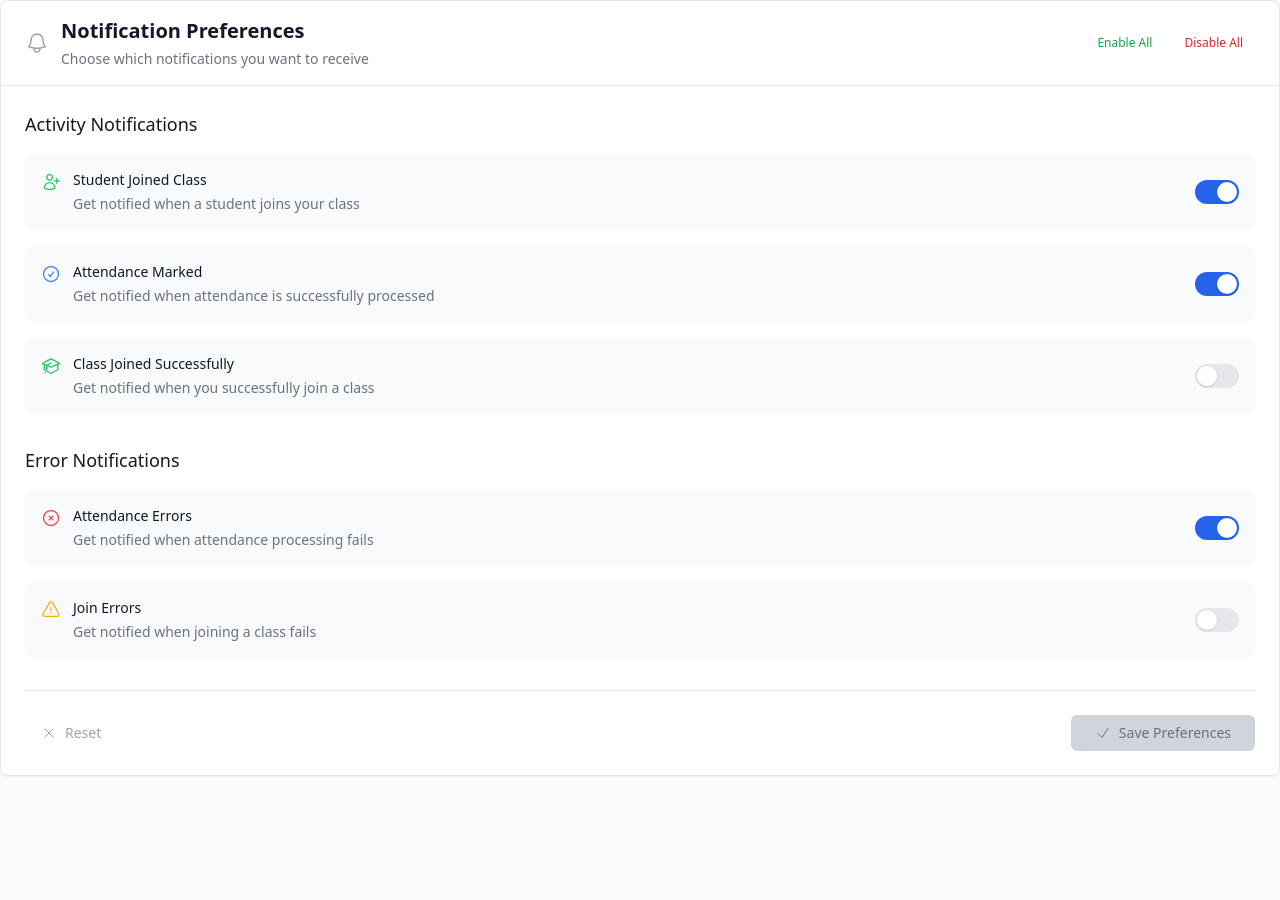
Test: NotificationPreferences › Error Handling › clears error when making changes after error
Make a change and save (will fail)
Step 1. Click the button with test id "toggle-class_joined" → (1217, 376), box [1195,364,1239,388]
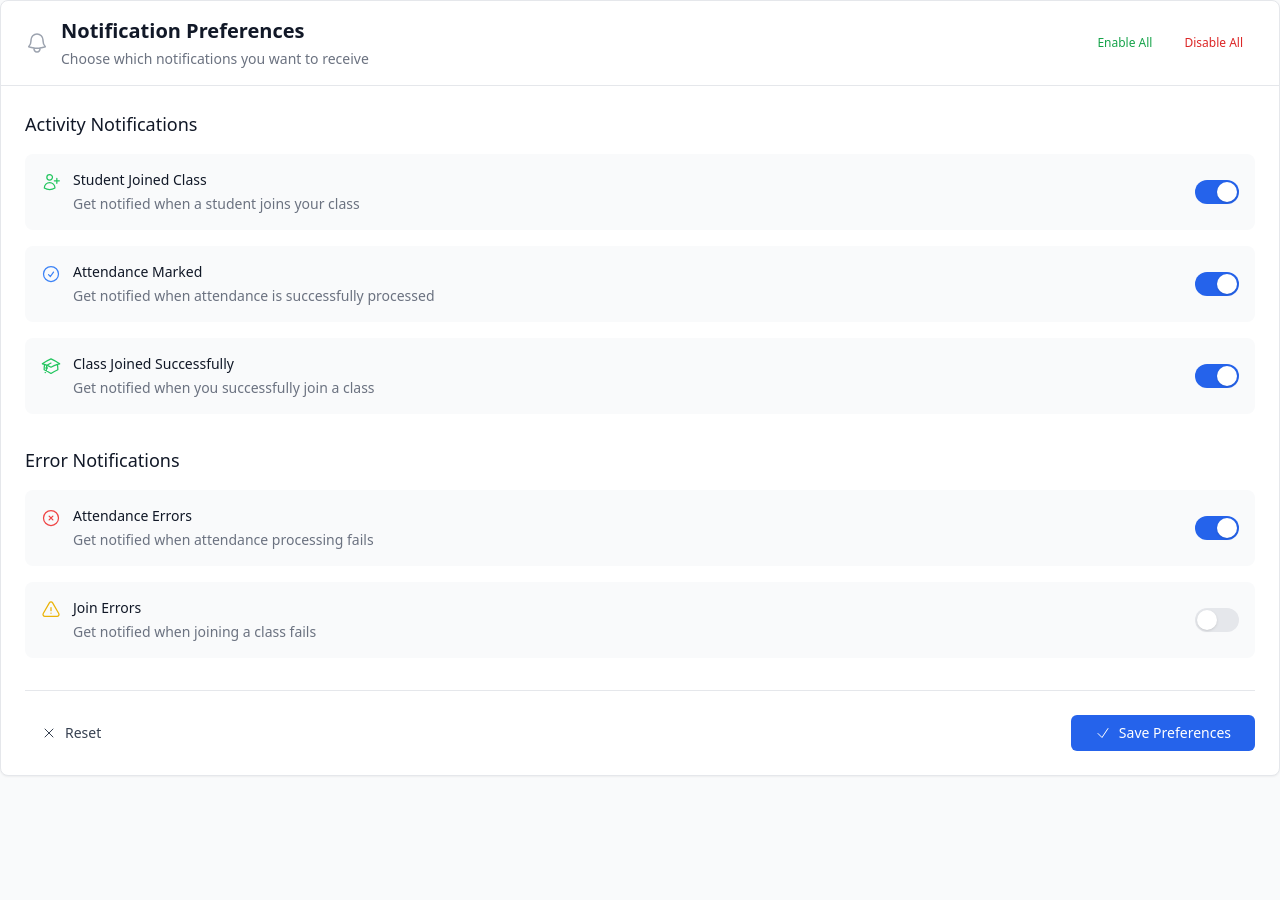
Step 2. Click the button with test id "save-button" → (1163, 733), box [1071,715,1255,751]
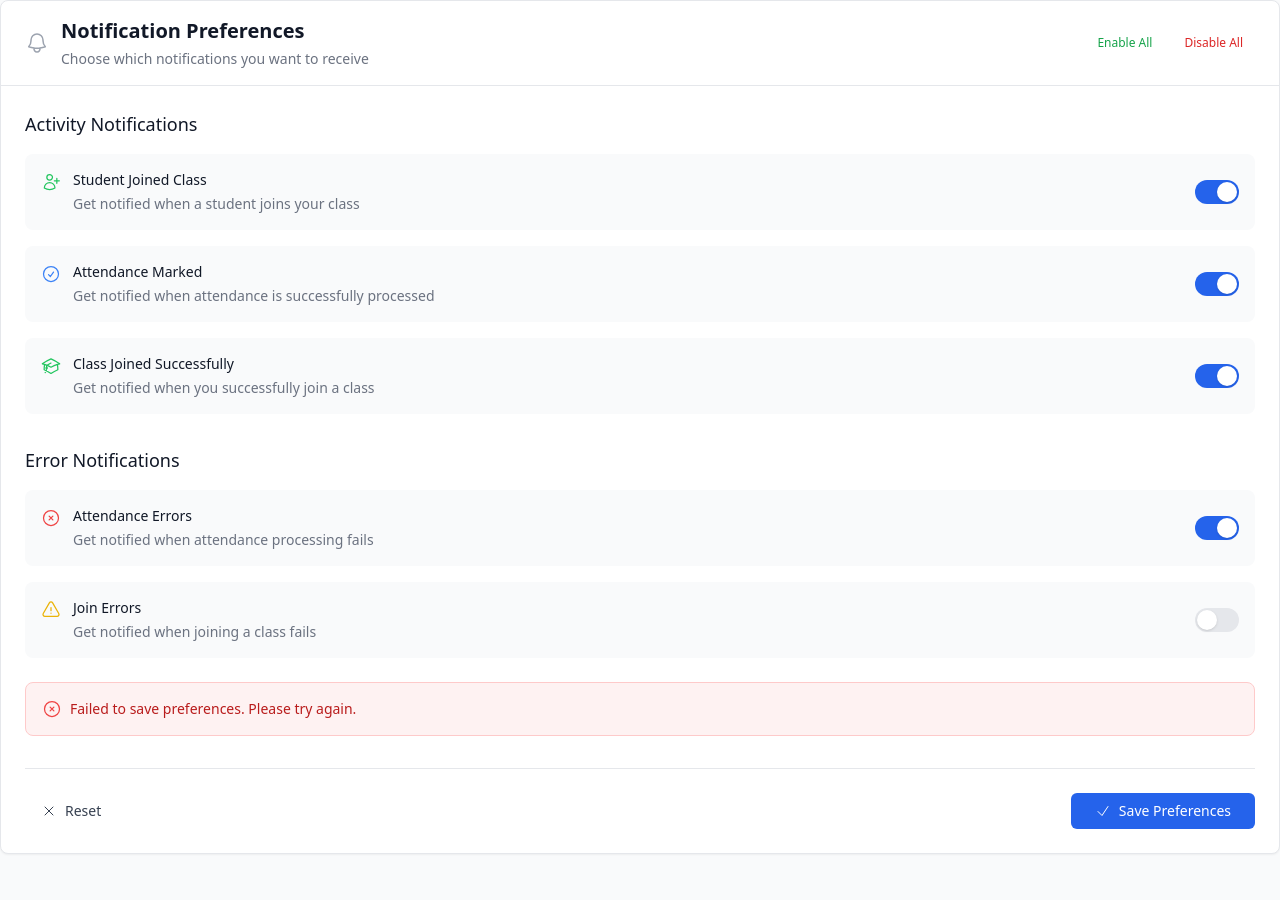
Expected: the text "Failed to save preferences. Please try again." is shown, [70,699,356,719]
Make another change
Step 3. Click the button with test id "toggle-attendance_marked" → (1217, 284), box [1195,272,1239,296]
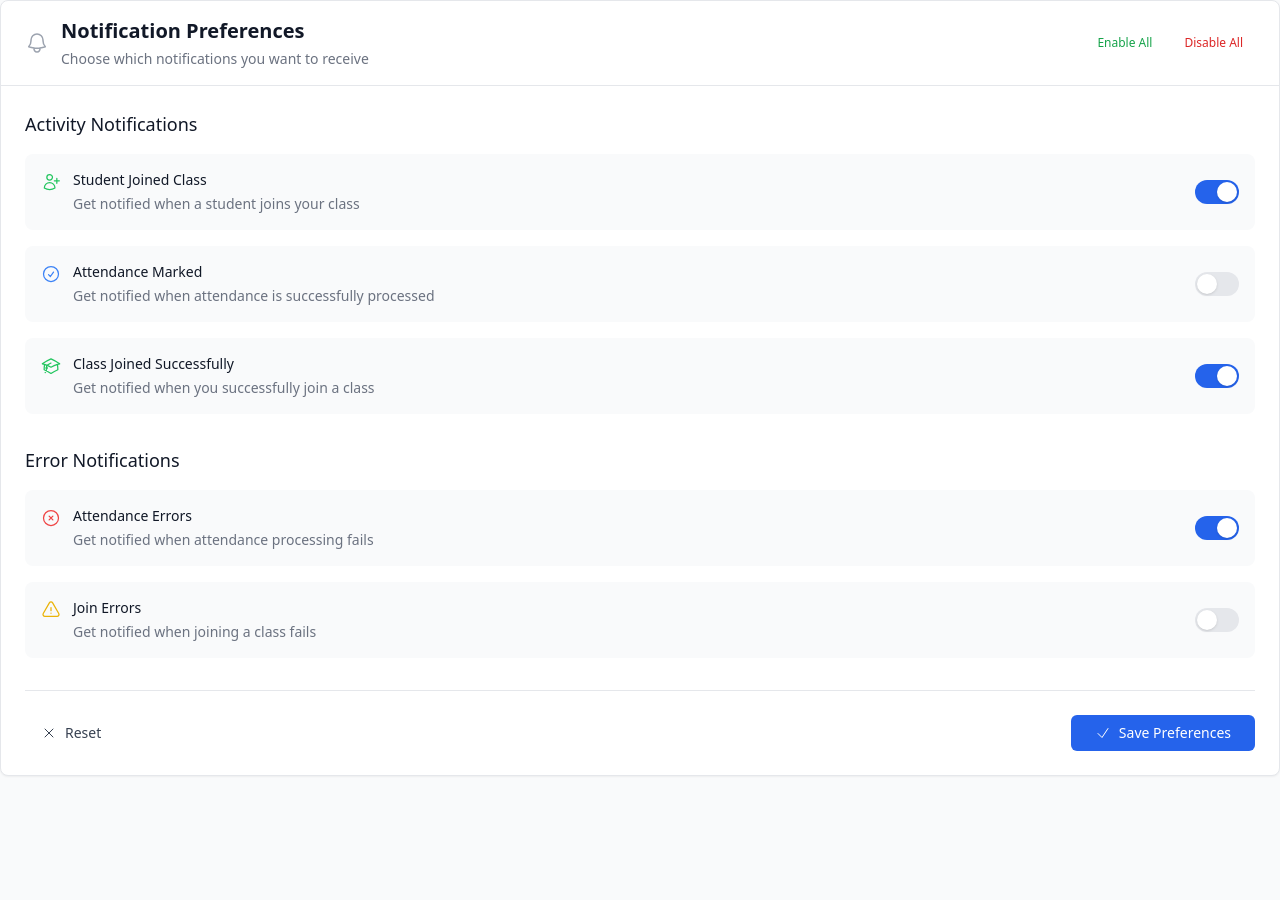
Expected: the text "Failed to save preferences. Please try again." is gone
